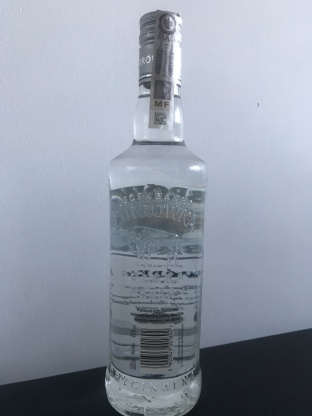nakretka: (136, 5, 185, 90)
